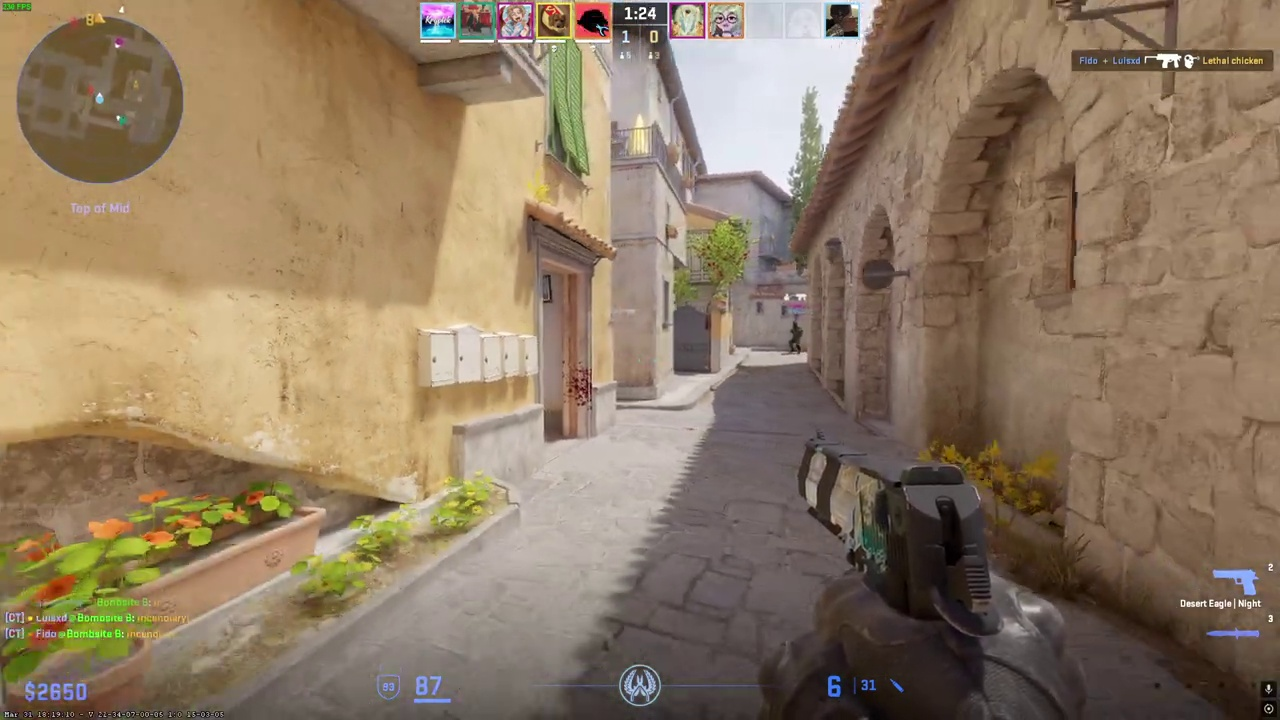CT: (789, 321, 803, 353)
